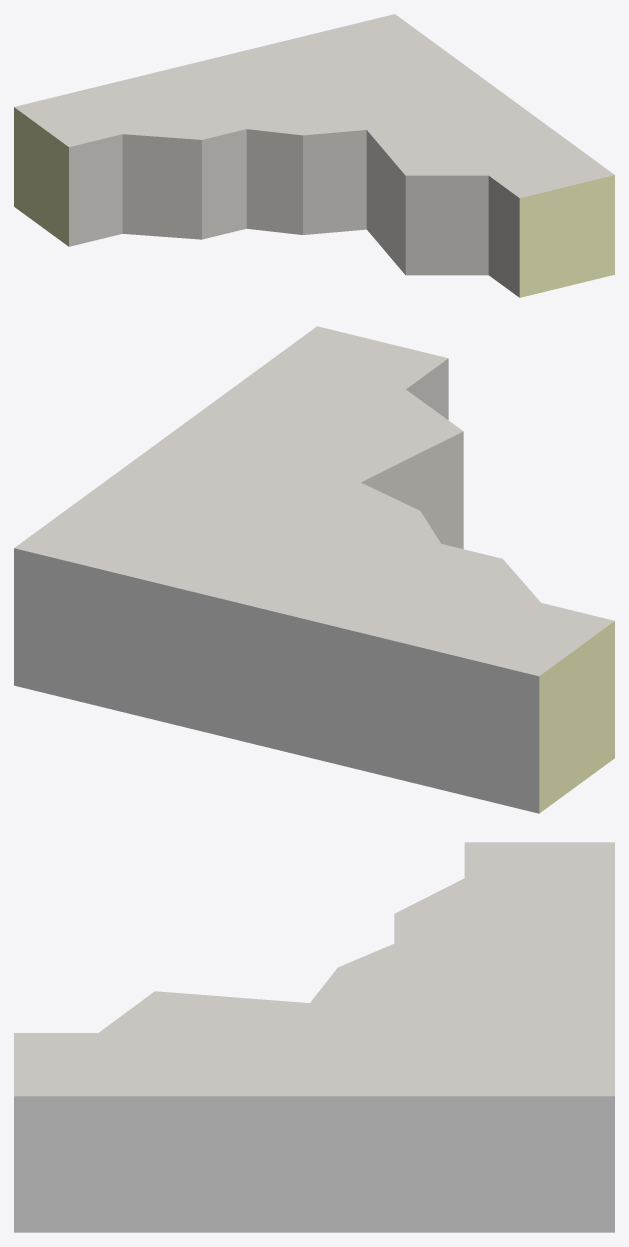
File: Cracked_Curve_Inner_4x4_2_Mid.glb
The picture shows the model from 3 angles, top to bottom: view 1: azimuth 30°, elevation 25°; view 2: azimuth 150°, elevation 25°; view 3: azimuth 270°, elevation 25°; orthographic projection. The views are drawn at different scales.
Parts seen in each view (by area): view 1: Cracked_Curve_Inner_4x4_2_Mid; view 2: Cracked_Curve_Inner_4x4_2_Mid; view 3: Cracked_Curve_Inner_4x4_2_Mid.
Part boxes in pixels (box(x1,y1,x2,y2)): Cracked_Curve_Inner_4x4_2_Mid: box(14, 14, 614, 297); Cracked_Curve_Inner_4x4_2_Mid: box(14, 326, 614, 813); Cracked_Curve_Inner_4x4_2_Mid: box(14, 842, 614, 1232).
Bounding box in the file's own units: 400 × 100 × 400.
